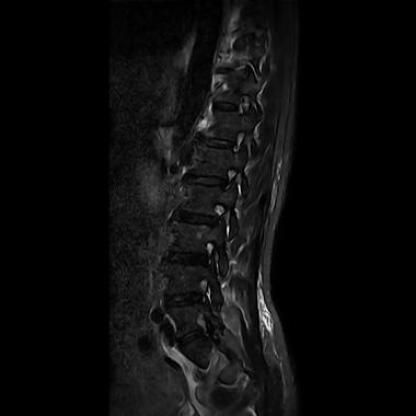Annular Tearrotation: (159, 289, 207, 313)
Disc Bulgerotation: (174, 207, 225, 230), (162, 248, 213, 271), (159, 289, 207, 312)
Disc Protrusionrotation: (189, 172, 230, 189)
